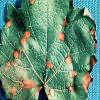grape leaf black rot: (0, 2, 97, 96)
